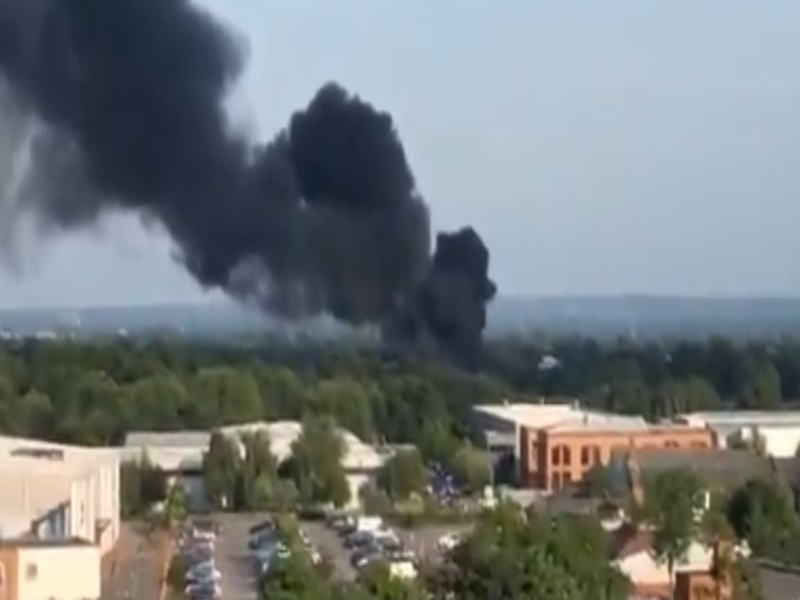smoke: (1, 1, 419, 297)
